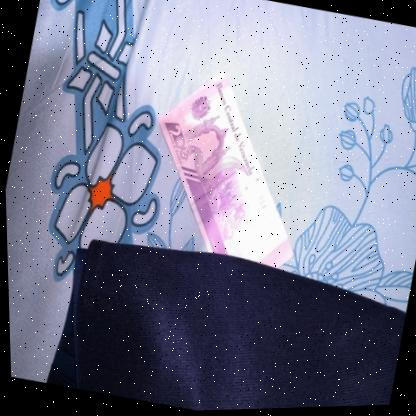one_hundred-back-vef: (130, 59, 326, 276)
